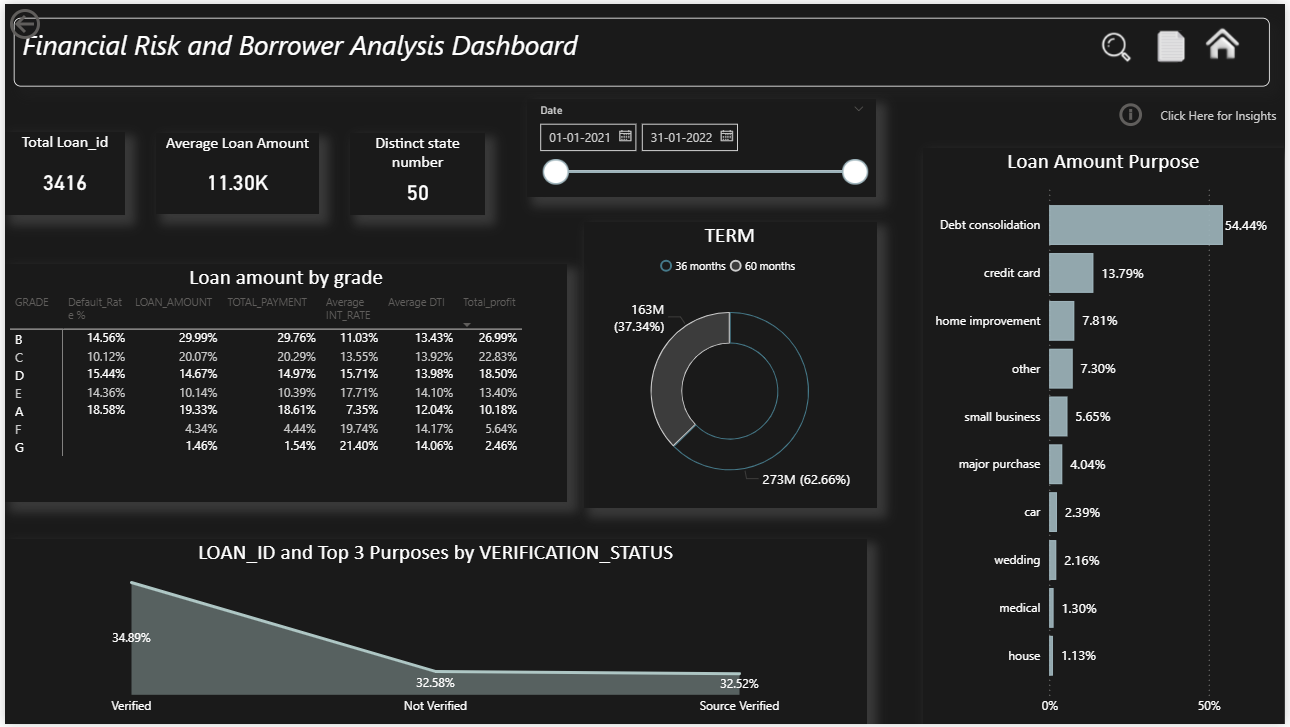

What the dashboard file says about the page in this screenshot:
{"tool":"powerbi","page":{"name":"Supporting-Dashboard","canvas":[1280,720],"ordinal":2},"visuals":[{"type":"textbox","box":[8.4,13.3,1255.9,68.8],"z":0},{"type":"actionButton","box":[0,0,100,40],"z":1000},{"type":"clusteredBarChart","title":"Loan Amount Purpose","fields":{"Category":["LOANS_DIMENSION.PURPOSE"],"Y":["Sum(LOANS_FACT.LOAN_AMOUNT)"]},"box":[918.1,143.6,361.9,576.7],"z":2000},{"type":"card","title":"Total Loan_id","fields":{"Values":["CountNonNull(LOANS_DIMENSION.DIM_LOAN_ID)"]},"box":[0,127.5,120,83.8],"z":3000},{"type":"pivotTable","title":"Loan amount by grade","fields":{"Rows":["LOANS_DIMENSION.GRADE"],"Values":["LOANS_FACT.Default_Rate %","Divide(Sum(LOANS_FACT.LOAN_AMOUNT), ScopedEval(Sum(LOANS_FACT.LOAN_AMOUNT), []))","Sum(LOANS_FACT.TOTAL_PAYMENT)","Avg(LOANS_FACT.INT_RATE)","Avg(LOANS_FACT.DTI)","LOANS_FACT.Total_profit"]},"box":[0,259.4,562.3,238.3],"z":4000},{"type":"stackedAreaChart","fields":{"Category":["LOANS_DIMENSION.VERIFICATION_STATUS"],"Y":["CountNonNull(LOANS_DIMENSION.DIM_LOAN_ID)"]},"box":[0,535,861.2,185],"z":5000},{"type":"donutChart","title":" TERM","fields":{"Category":["LOANS_DIMENSION.TERM"],"Y":["Sum(LOANS_FACT.LOAN_AMOUNT)"]},"box":[578.8,217.5,292.5,286.2],"z":6000},{"type":"card","title":"Average Loan Amount","fields":{"Values":["Avg(LOANS_FACT.LOAN_AMOUNT)"]},"box":[151.4,129.1,162.6,81.9],"z":7000},{"type":"card","title":"Distinct state number","fields":{"Values":["Count(GEOGRAPHIC_DIMENSION.StateCode)"]},"box":[345,128.8,135,82.5],"z":8000},{"type":"slicer","fields":{"Values":["DateTable.Date"]},"box":[522.5,95,348.8,97.5],"z":9000},{"type":"actionButton","box":[1194.4,18.1,49.5,44.6],"z":10000},{"type":"actionButton","box":[1109.9,95.3,165.3,31.4],"z":11000},{"type":"actionButton","box":[1146.1,22.9,48.3,39.8],"z":12000},{"type":"actionButton","box":[1088.2,15.7,44.6,49.5],"z":13000}]}

Visuals, with their boxes in screenshot pixels (x1, y1, x2, y2), scaled from the page's 1280x720 canvas onto the 1290x727 screenshot:
textbox: bbox(8, 13, 1274, 83)
actionButton: bbox(0, 0, 101, 40)
"Loan Amount Purpose" clusteredBarChart: bbox(925, 145, 1289, 726)
"Total Loan_id" card: bbox(0, 129, 121, 213)
"Loan amount by grade" pivotTable: bbox(0, 262, 567, 503)
stackedAreaChart - LOANS_DIMENSION.VERIFICATION_STATUS x CountNonNull(LOANS_DIMENSION.DIM_LOAN_ID): bbox(0, 540, 868, 726)
" TERM" donutChart: bbox(583, 220, 878, 509)
"Average Loan Amount" card: bbox(153, 130, 316, 213)
"Distinct state number" card: bbox(348, 130, 484, 213)
slicer - DateTable.Date: bbox(527, 96, 878, 194)
actionButton: bbox(1204, 18, 1254, 63)
actionButton: bbox(1119, 96, 1285, 128)
actionButton: bbox(1155, 23, 1204, 63)
actionButton: bbox(1097, 16, 1142, 66)
